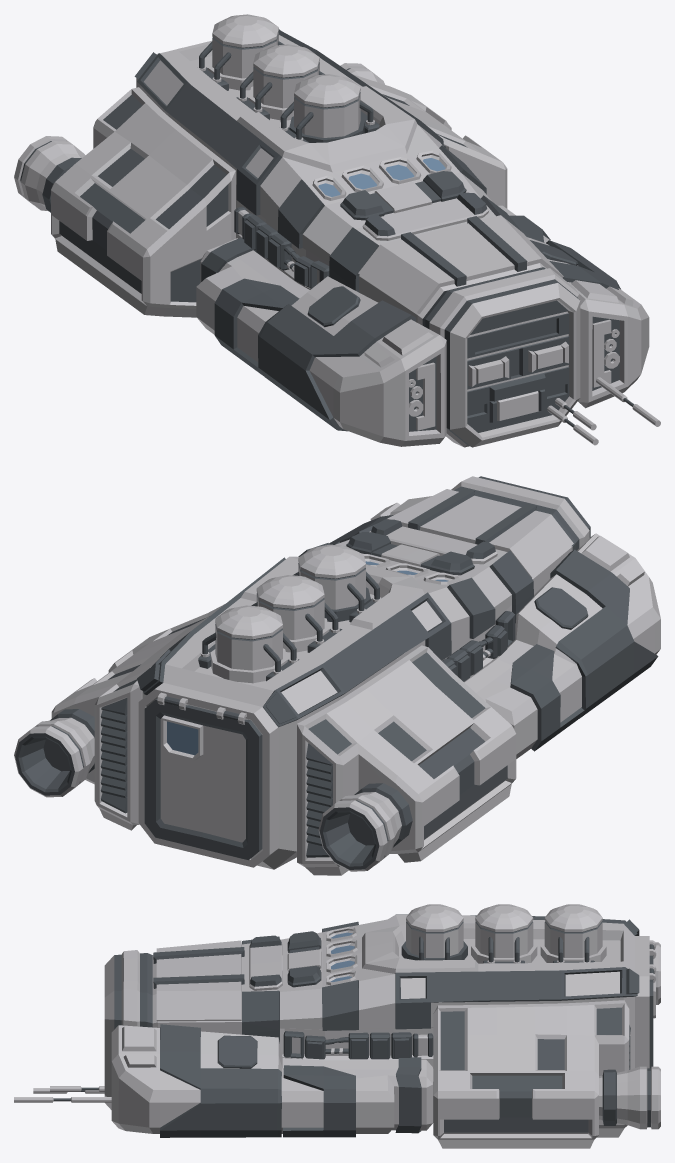
The model's file is Mothership_01_Neutral.fbx.
The picture shows the model from 3 angles, top to bottom: view 1: azimuth 30°, elevation 25°; view 2: azimuth 150°, elevation 25°; view 3: azimuth 270°, elevation 25°; orthographic projection. The views are drawn at different scales.
Parts seen in each view (by area): view 1: Mothership_01_Neutral; view 2: Mothership_01_Neutral; view 3: Mothership_01_Neutral.
Part boxes in pixels (x1=…): Mothership_01_Neutral: x1=14, y1=14, x2=660, y2=447; Mothership_01_Neutral: x1=14, y1=476, x2=660, y2=875; Mothership_01_Neutral: x1=14, y1=904, x2=660, y2=1148.
Bounding box in the file's own units: 4176 × 2438 × 7543.
Materials: 3 (3 with a texture image).
